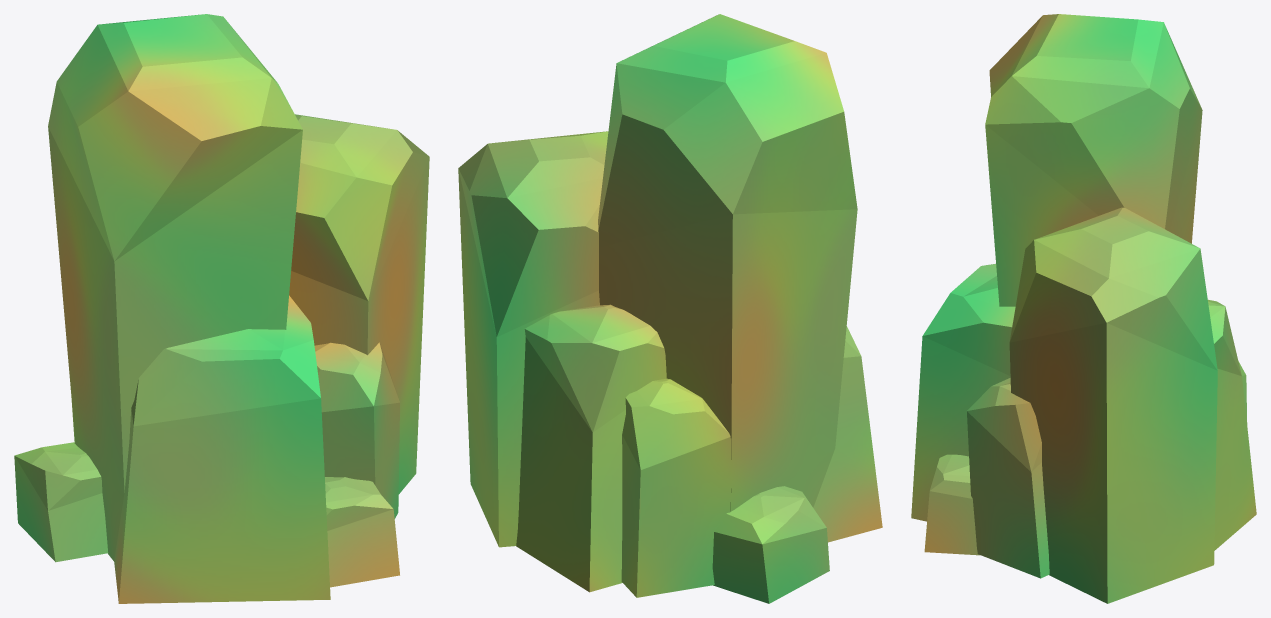
Rendered from crystal_10.glb.
3 renders of one model, left to right at view 1: azimuth 30°, elevation 25°; view 2: azimuth 150°, elevation 25°; view 3: azimuth 270°, elevation 25°, orthographic. The views are drawn at different scales.
Visible parts, largest first — view 1: crystal_10; view 2: crystal_10; view 3: crystal_10.
Part boxes in pixels (<box>): crystal_10: <box>14,14,429,603</box>; crystal_10: <box>458,14,882,603</box>; crystal_10: <box>911,14,1256,603</box>.
Size of the model in its own units: 0.8763 by 1.13 by 0.763.
1 material, 1 textured.
